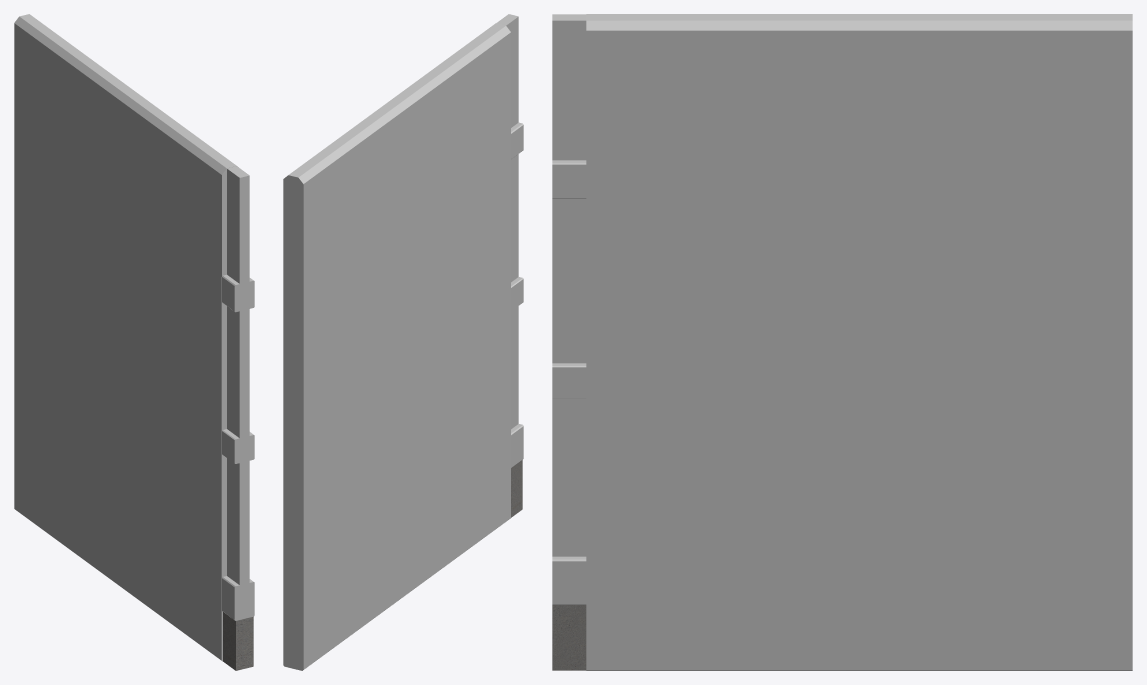
Rendered from SM_DG_HG_Wall01D.fbx.
3 views of the same model, side by side, from view 1: azimuth 30°, elevation 25°; view 2: azimuth 150°, elevation 25°; view 3: azimuth 270°, elevation 25° (orthographic). The views are drawn at different scales.
Visible parts, largest first — view 1: SM_DG_HG_Wall01D_ConvexHulls, SM_DG_HG_Wall01D; view 2: SM_DG_HG_Wall01D_ConvexHulls, SM_DG_HG_Wall01D; view 3: SM_DG_HG_Wall01D_ConvexHulls, SM_DG_HG_Wall01D.
Part boxes in pixels (x1=…): SM_DG_HG_Wall01D_ConvexHulls: x1=14, y1=14, x2=237, y2=661; SM_DG_HG_Wall01D: x1=222, y1=166, x2=254, y2=670; SM_DG_HG_Wall01D_ConvexHulls: x1=283, y1=23, x2=510, y2=670; SM_DG_HG_Wall01D: x1=496, y1=14, x2=523, y2=517; SM_DG_HG_Wall01D_ConvexHulls: x1=586, y1=14, x2=1132, y2=670; SM_DG_HG_Wall01D: x1=552, y1=14, x2=586, y2=670.
Size of the model in its own units: 12 by 225 by 278.
